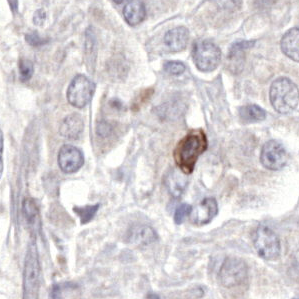Lymphocyte: (174, 128, 210, 177)
